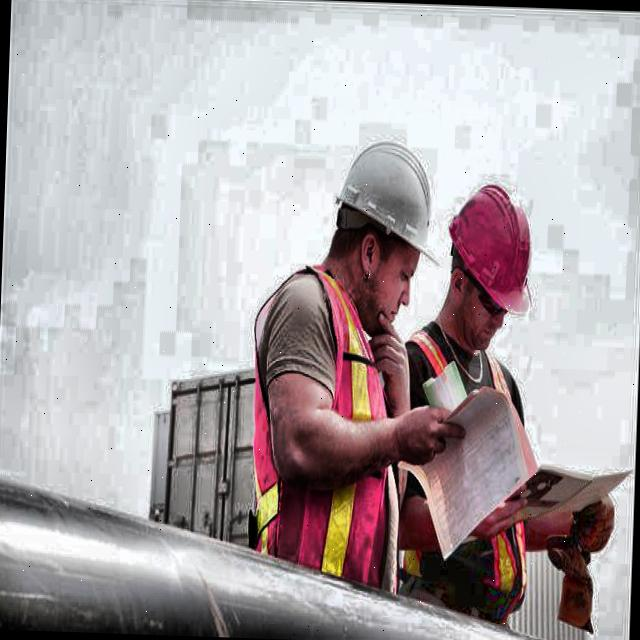helmet: (316, 112, 454, 336), (420, 168, 548, 362)
